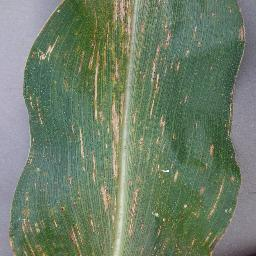Gray_Leaf_Spot: (108, 0, 137, 46), (126, 165, 141, 242), (150, 222, 185, 255), (93, 92, 125, 123), (88, 46, 129, 70), (129, 130, 165, 152), (99, 181, 119, 220), (92, 0, 108, 48), (65, 223, 85, 256), (18, 238, 51, 256), (226, 83, 238, 129), (163, 50, 183, 77), (206, 190, 222, 223), (104, 71, 125, 94), (152, 196, 171, 221), (190, 18, 204, 48), (112, 146, 123, 183), (150, 43, 160, 83), (233, 22, 252, 42), (16, 217, 46, 229), (88, 211, 101, 238), (111, 122, 122, 151), (91, 70, 104, 94), (162, 17, 172, 48), (72, 48, 86, 70), (5, 235, 20, 255), (204, 233, 217, 255), (185, 237, 200, 256), (136, 43, 143, 83), (21, 191, 33, 214), (74, 184, 88, 203), (154, 149, 163, 178), (140, 0, 166, 9), (26, 48, 45, 60), (131, 101, 139, 129), (160, 112, 170, 134), (107, 219, 113, 254), (191, 198, 200, 221), (92, 151, 98, 185), (219, 169, 226, 196), (222, 218, 231, 239), (76, 125, 85, 145), (171, 166, 181, 184), (207, 142, 216, 161), (152, 81, 162, 98), (26, 142, 32, 170), (58, 202, 68, 217), (156, 180, 166, 195), (51, 211, 60, 227), (198, 160, 210, 172), (28, 95, 41, 106), (178, 45, 187, 60), (68, 170, 77, 185), (225, 203, 235, 216), (140, 18, 149, 32), (149, 95, 155, 116), (231, 169, 240, 183), (177, 210, 186, 224), (133, 247, 146, 256), (48, 36, 53, 58), (82, 0, 91, 12), (34, 113, 43, 125), (61, 78, 69, 90), (200, 182, 207, 195), (170, 133, 177, 144), (70, 120, 76, 132), (80, 141, 83, 164), (185, 90, 189, 107), (235, 68, 239, 85), (43, 180, 49, 191), (242, 50, 246, 65), (56, 6, 62, 15), (194, 118, 197, 134), (227, 6, 231, 17), (96, 129, 101, 137), (237, 7, 242, 14), (43, 169, 47, 177), (184, 203, 188, 210), (192, 52, 195, 54)
